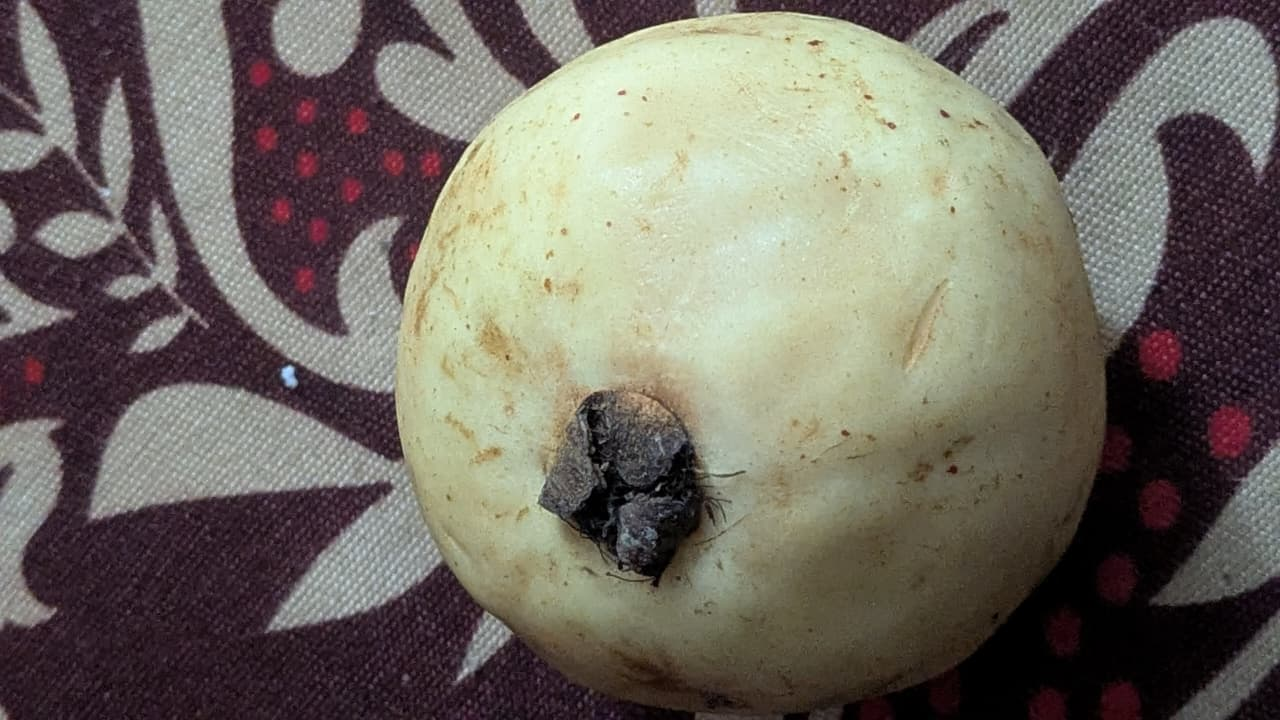guava: (136, 119, 941, 607)
